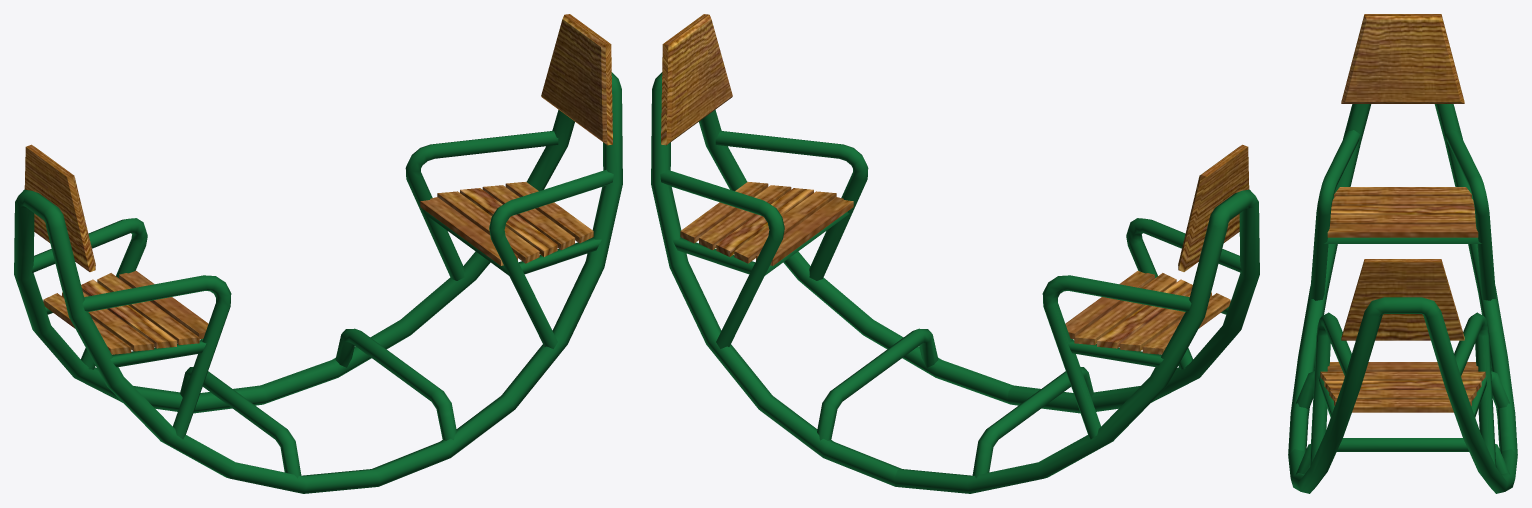
The model's file is seesaw.glb.
3 renders of one model, left to right at view 1: azimuth 30°, elevation 25°; view 2: azimuth 150°, elevation 25°; view 3: azimuth 270°, elevation 25°, orthographic. The views are drawn at different scales.
Parts seen in each view (by area): view 1: seesaw-type1; view 2: seesaw-type1; view 3: seesaw-type1.
Boxes of the visible parts, left/top/right/bottom form: seesaw-type1: left=14, top=14, right=622, bottom=493; seesaw-type1: left=651, top=14, right=1259, bottom=493; seesaw-type1: left=1288, top=14, right=1517, bottom=493.
Size of the model in its own units: 3.2 by 1.88 by 1.19.
1 material, 1 textured.
